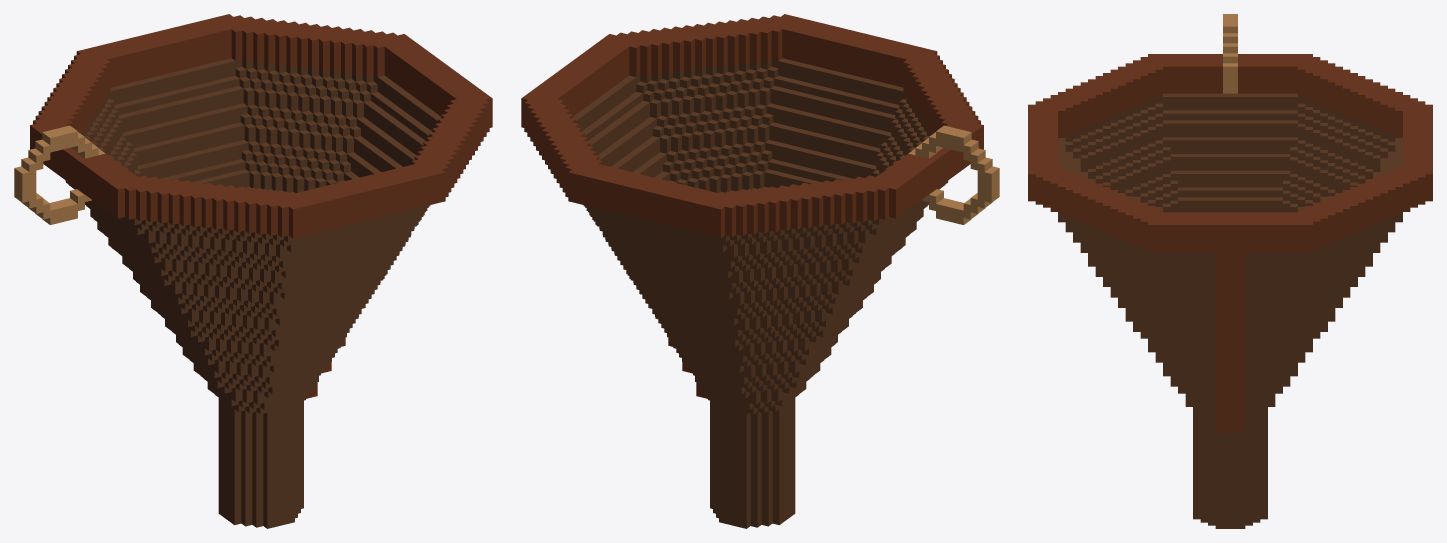
The model's file is leather_funnel.glb.
3 renders of one model, left to right at view 1: azimuth 30°, elevation 25°; view 2: azimuth 150°, elevation 25°; view 3: azimuth 270°, elevation 25°, orthographic. The views are drawn at different scales.
Parts seen in each view (by area): view 1: leather_funnel:compound; view 2: leather_funnel:compound; view 3: leather_funnel:compound.
Part boxes in pixels (left/top/right/bottom): leather_funnel:compound: left=14, top=14, right=492, bottom=528; leather_funnel:compound: left=521, top=14, right=999, bottom=528; leather_funnel:compound: left=1028, top=14, right=1432, bottom=528.
Bounding box in the file's own units: 0.124 × 0.118 × 0.108.
